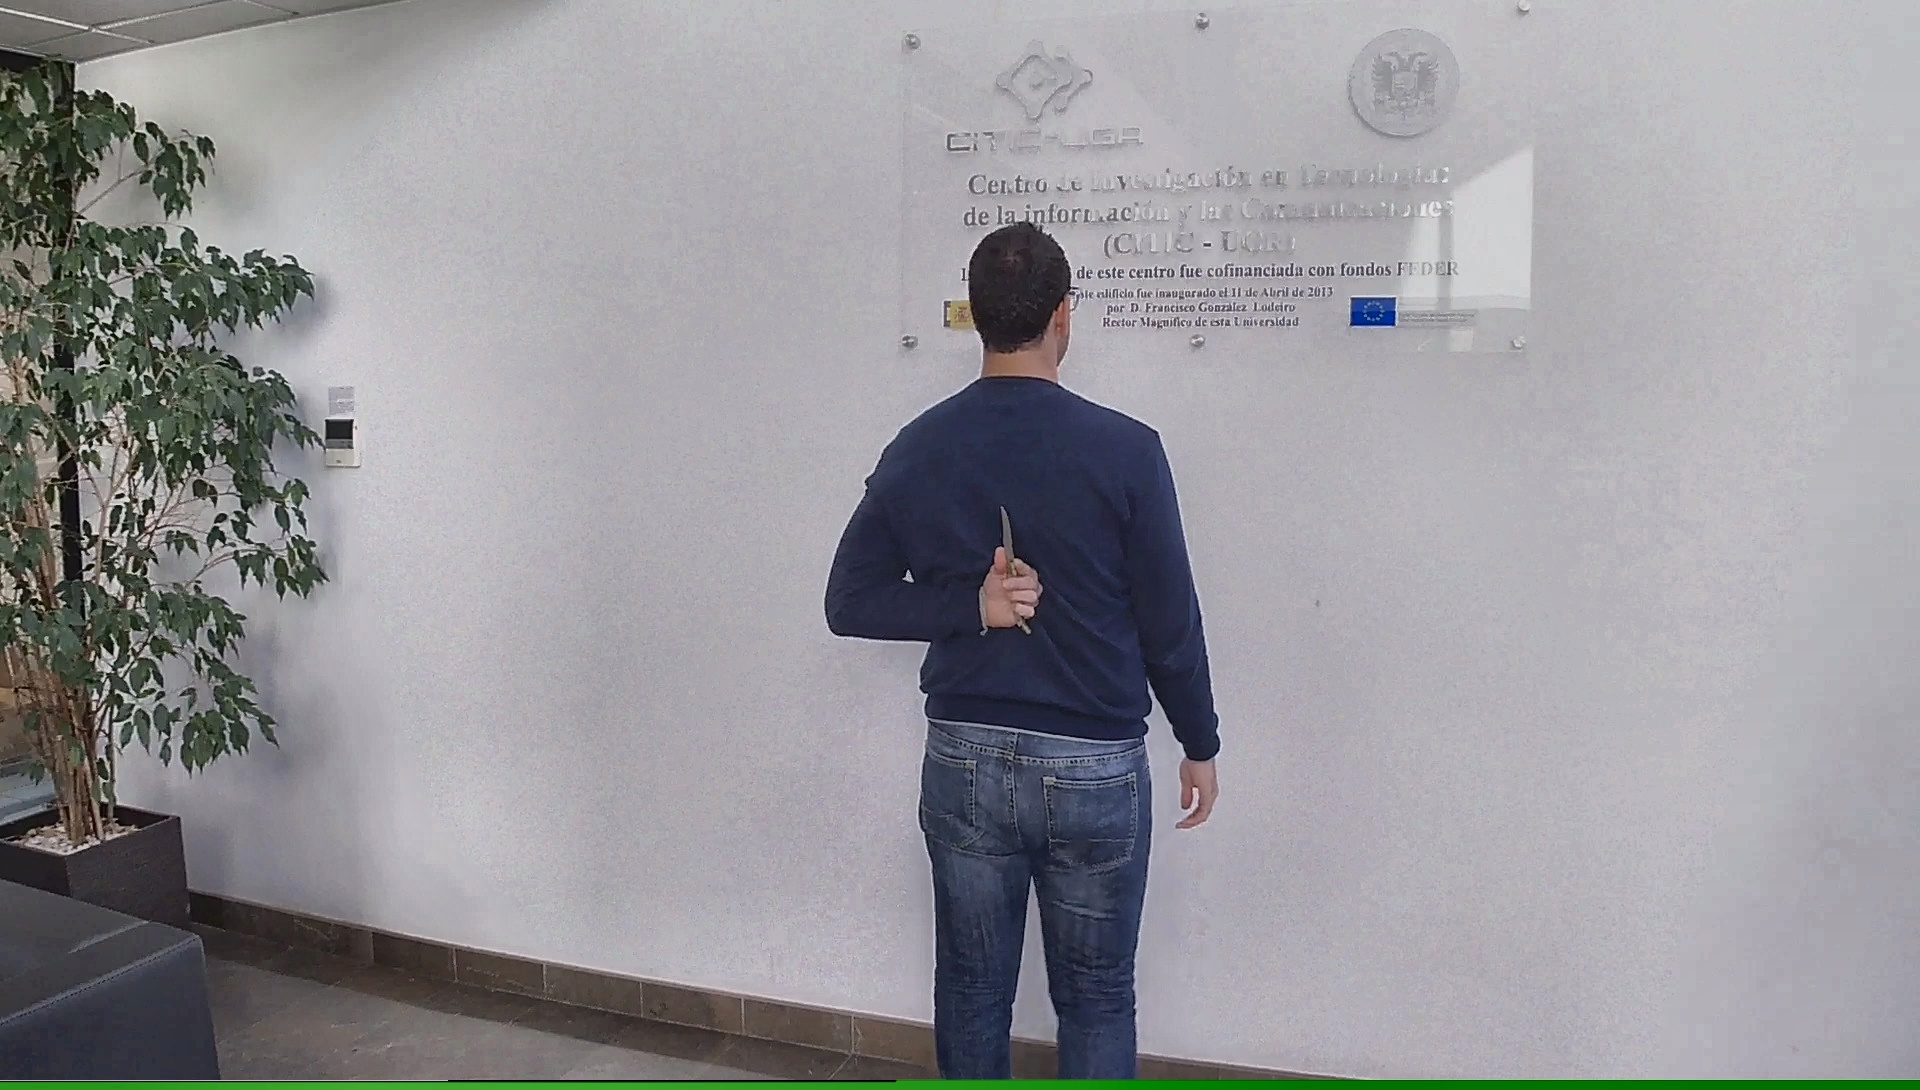knife: (990, 496, 1048, 641)
